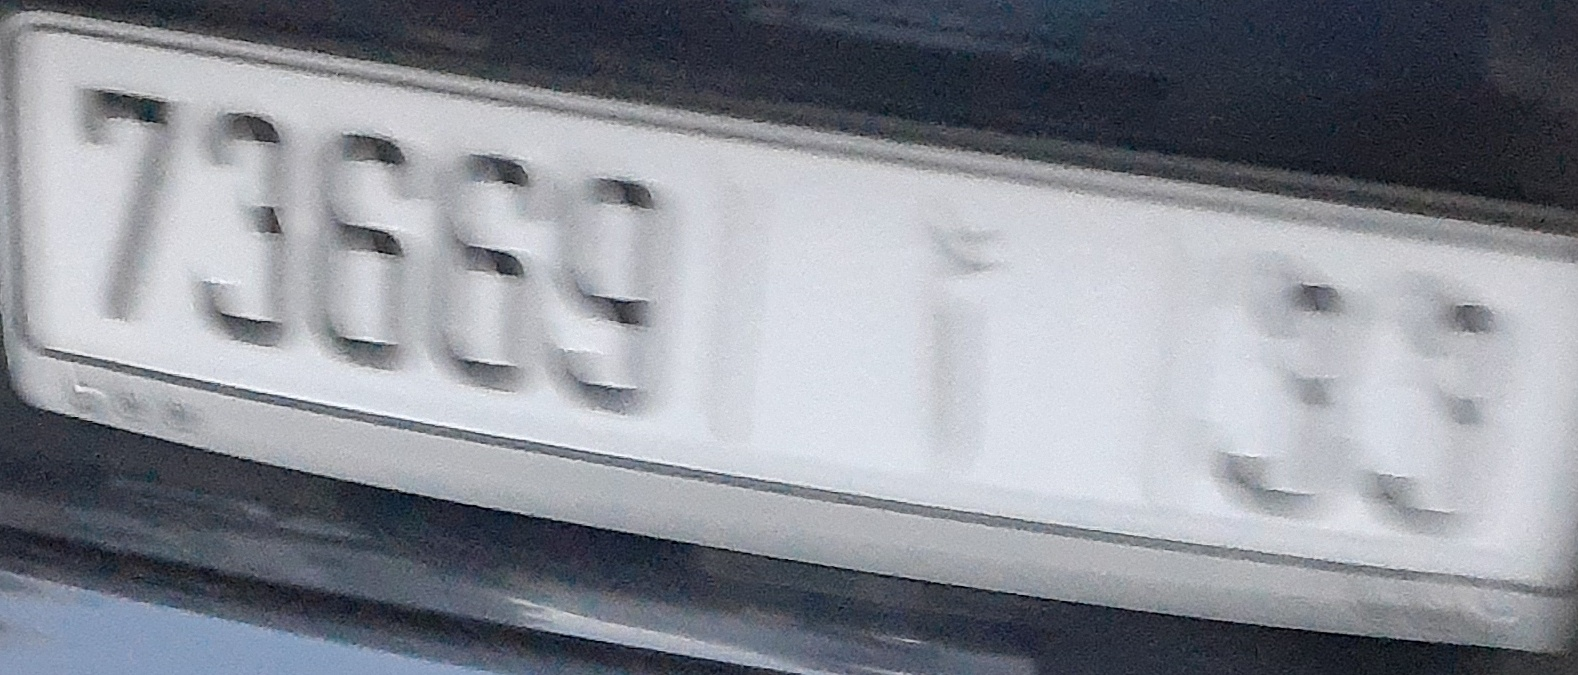3: (1358, 279, 1513, 556), (1208, 258, 1357, 521), (186, 98, 305, 361)
6: (307, 117, 422, 376), (428, 143, 540, 404)
7: (74, 76, 186, 329)
9: (545, 167, 672, 428)
a: (919, 206, 1029, 467)
